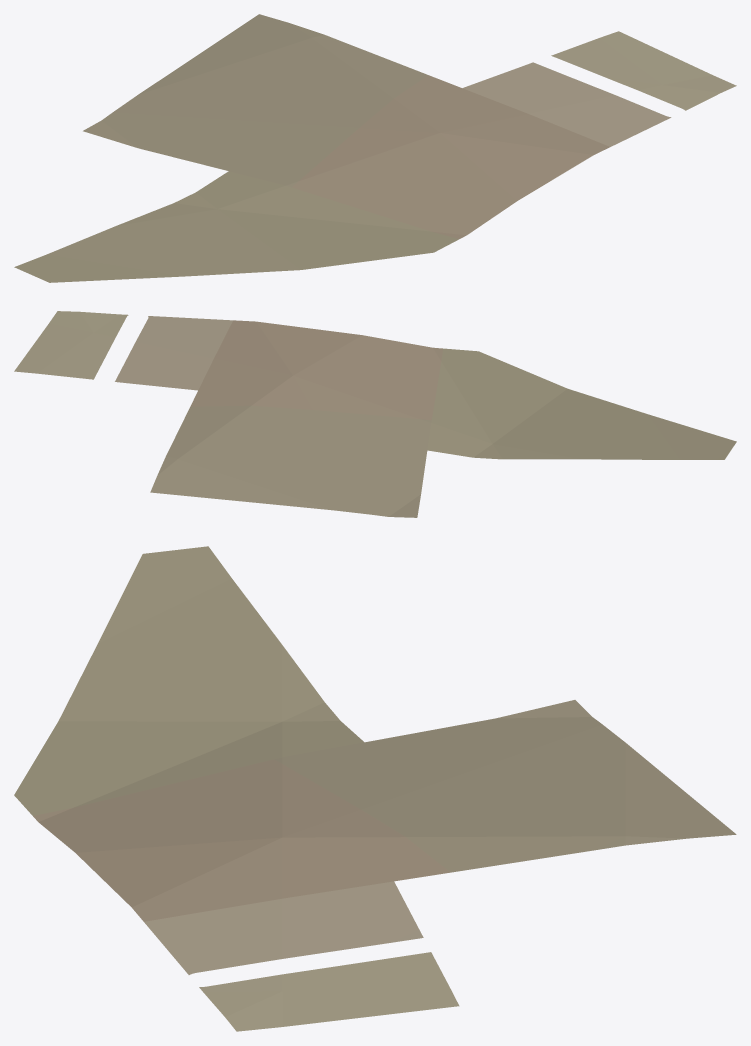
File: farm_11_9_soil.glb
3 views of the same model, one above another, from view 1: azimuth 30°, elevation 25°; view 2: azimuth 150°, elevation 25°; view 3: azimuth 270°, elevation 25° (orthographic). The views are drawn at different scales.
Visible parts, largest first — view 1: geometry_0; view 2: geometry_0; view 3: geometry_0.
Boxes of the visible parts, <box> form: geometry_0: <box>14,14,736,282</box>; geometry_0: <box>14,311,736,517</box>; geometry_0: <box>14,546,736,1031</box>.
Size of the model in its own units: 264 by 7.87 by 168.
